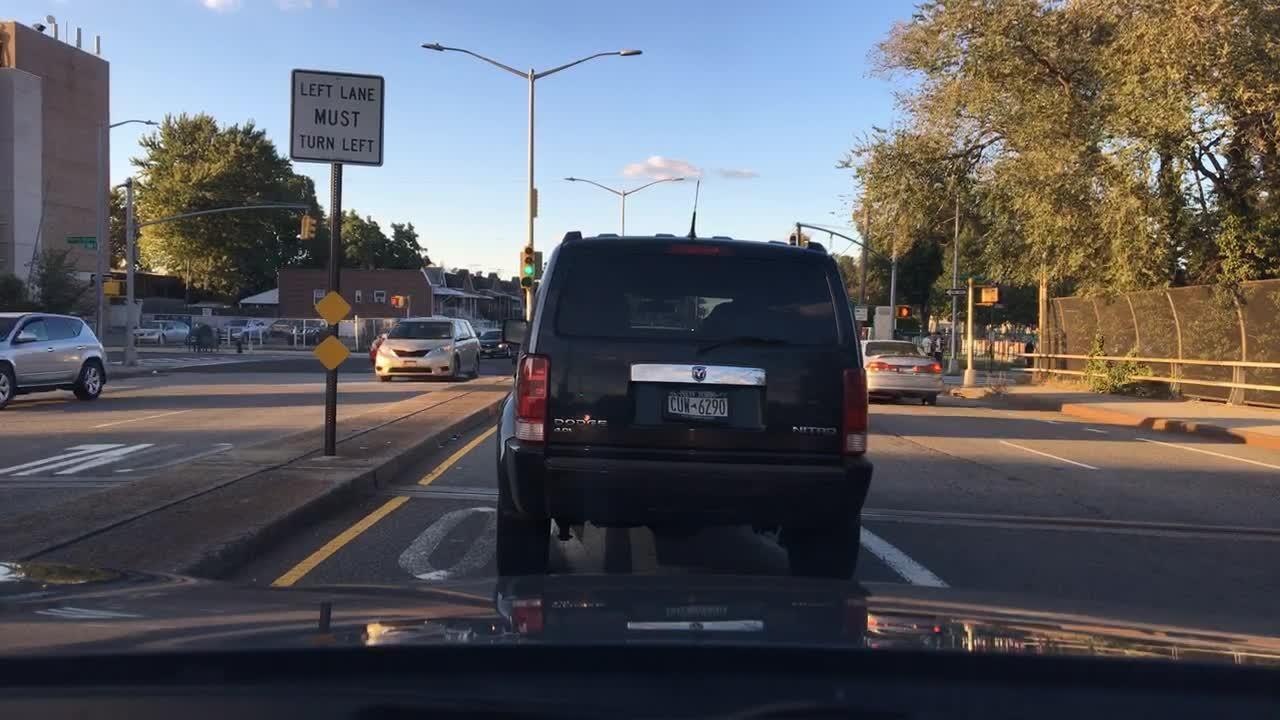ram: (691, 360, 711, 385)
